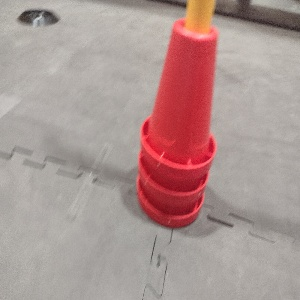Red_3: (136, 18, 219, 227)
